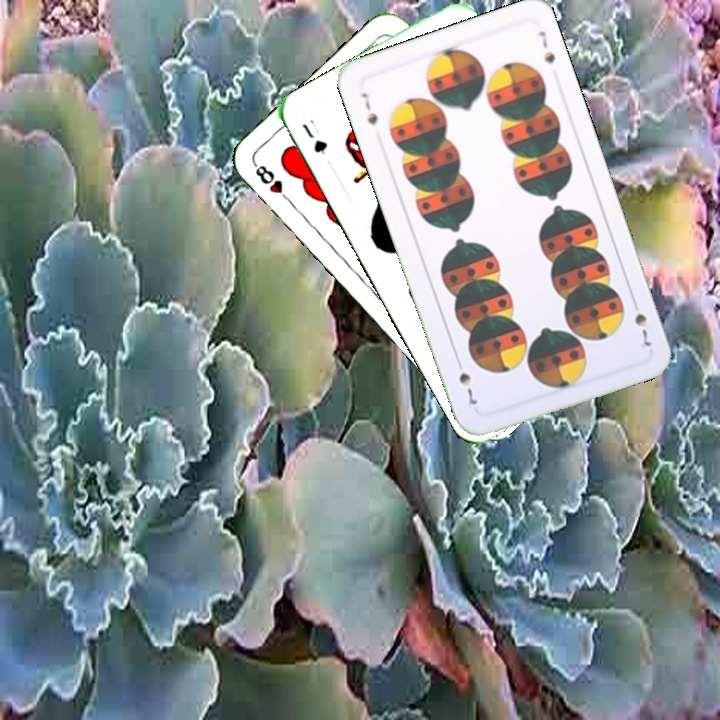GU: (298, 114, 330, 156)
H8: (249, 159, 295, 206)
S7: (628, 294, 655, 351), (357, 88, 380, 128)
